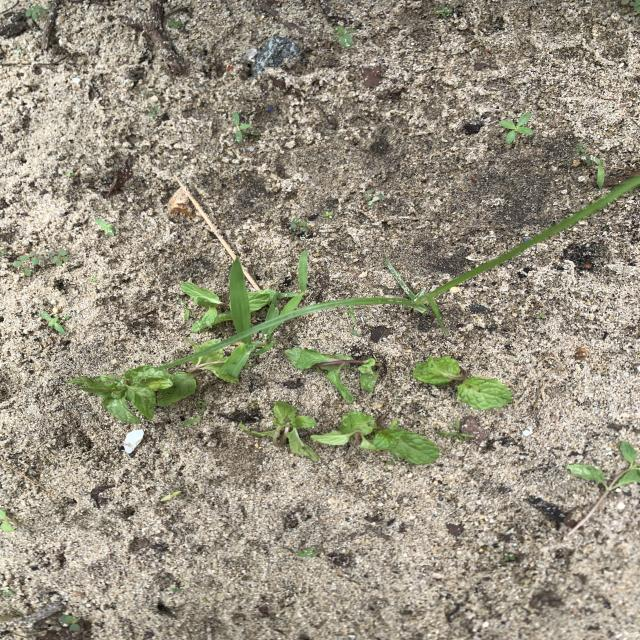crop: (566, 441, 640, 537), (310, 411, 439, 465), (73, 367, 173, 423), (412, 356, 512, 410), (158, 348, 240, 406), (242, 401, 319, 462), (285, 348, 377, 392), (181, 282, 234, 332), (248, 290, 277, 313)
weed: (341, 253, 511, 335), (218, 258, 281, 378), (280, 251, 308, 314), (574, 144, 605, 189), (12, 252, 57, 277), (499, 113, 533, 144), (231, 112, 260, 144), (437, 420, 475, 443), (40, 310, 69, 336), (182, 403, 209, 426), (333, 25, 354, 48), (290, 217, 312, 237), (59, 613, 81, 632), (0, 507, 16, 533), (94, 218, 117, 236), (177, 297, 192, 324), (348, 306, 361, 337), (25, 4, 45, 24), (363, 190, 385, 208), (160, 489, 186, 503), (48, 249, 69, 266), (434, 5, 454, 19), (297, 547, 321, 558), (168, 18, 183, 29), (278, 293, 291, 300), (85, 277, 100, 283), (323, 211, 334, 219)
